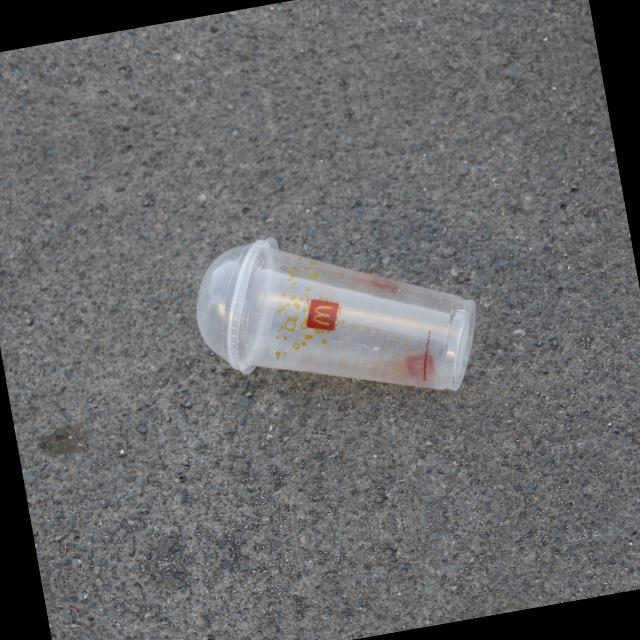Plastic: (181, 198, 492, 436)
